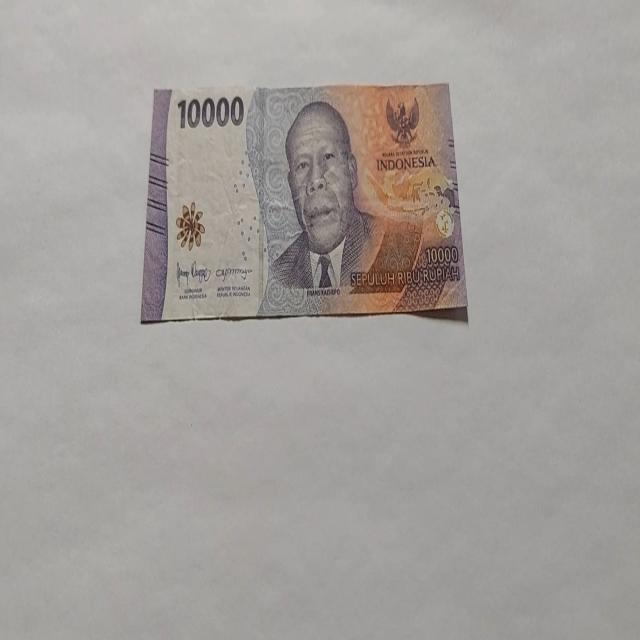sepuluh ribu rupiah: (140, 80, 468, 324)
